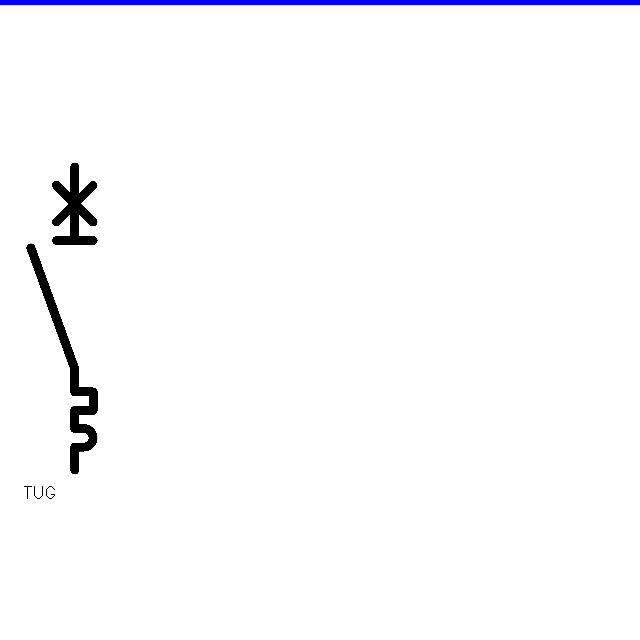interruptor_termomagnetico: (23, 159, 101, 478)
